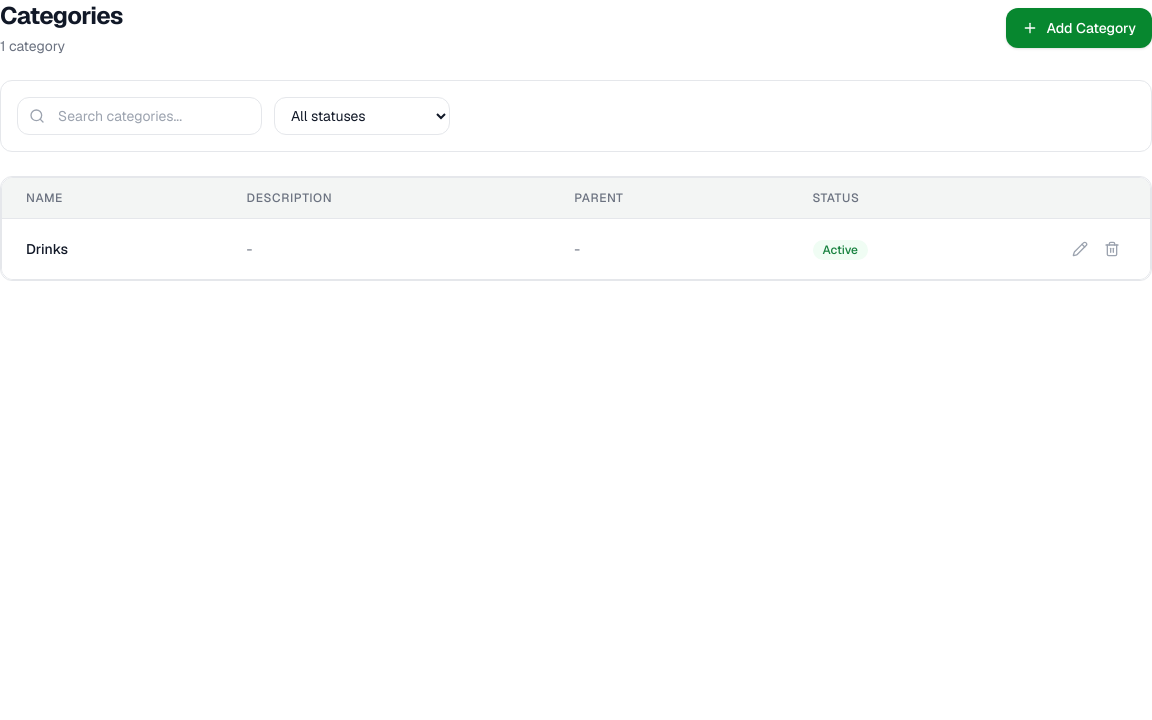
it: categories › explains a category that is in use and offers to deactivate it
The width and height of the screenshot is (1152, 720).
What coordinates should you click on to do the following:
click the button named "Remove Drinks"
I would click on:
 (1112, 249)
Its box is x1=1098 y1=235 x2=1126 y2=263.
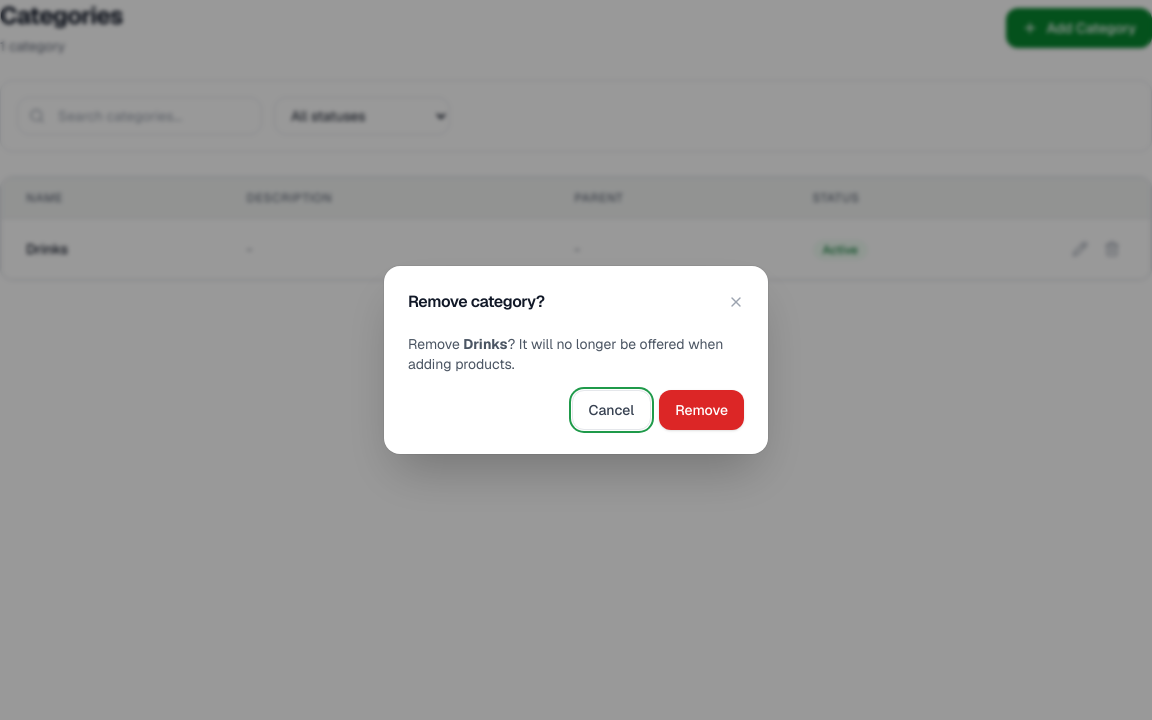
What coordinates should you click on to do the following:
click the button "Remove"
I would click on:
 (702, 410)
Its box is x1=659 y1=390 x2=744 y2=430.
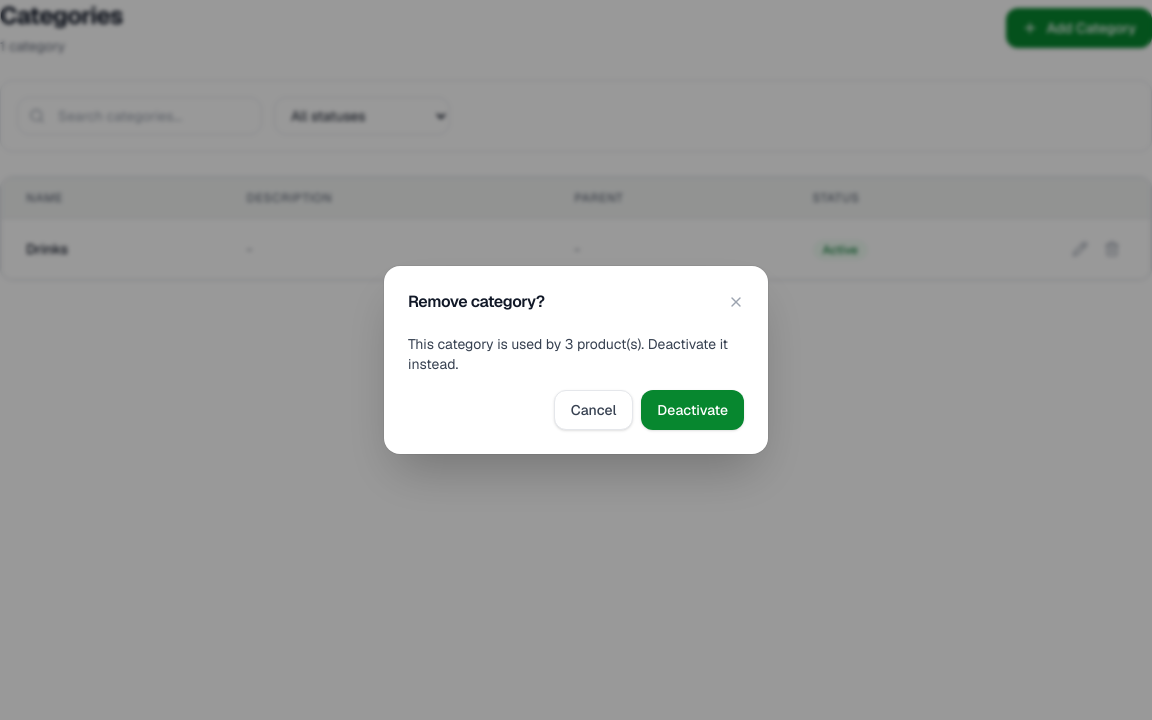
Expected: the text "This category is used by 3 product(s). Deactivate it instead." is shown, x1=408 y1=334 x2=744 y2=374
What coordinates should you click on to do the following:
click the button "Deactivate"
I would click on:
 (693, 410)
Its box is x1=641 y1=390 x2=744 y2=430.
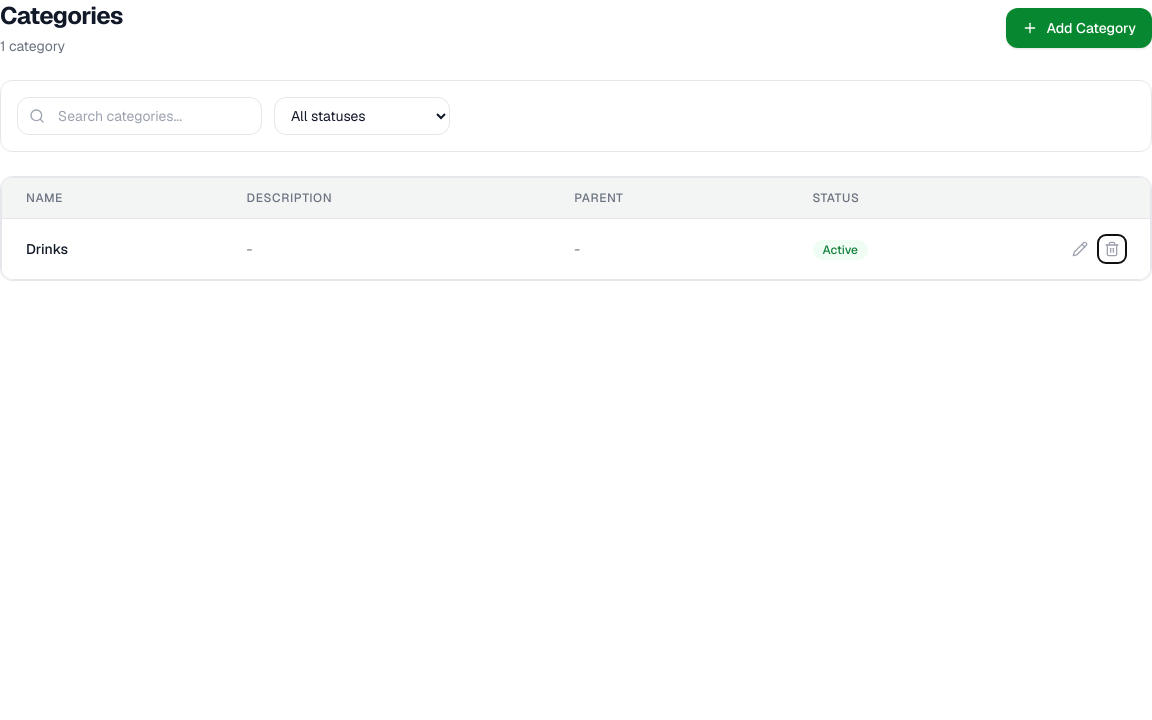
Expected: the dialog is gone
